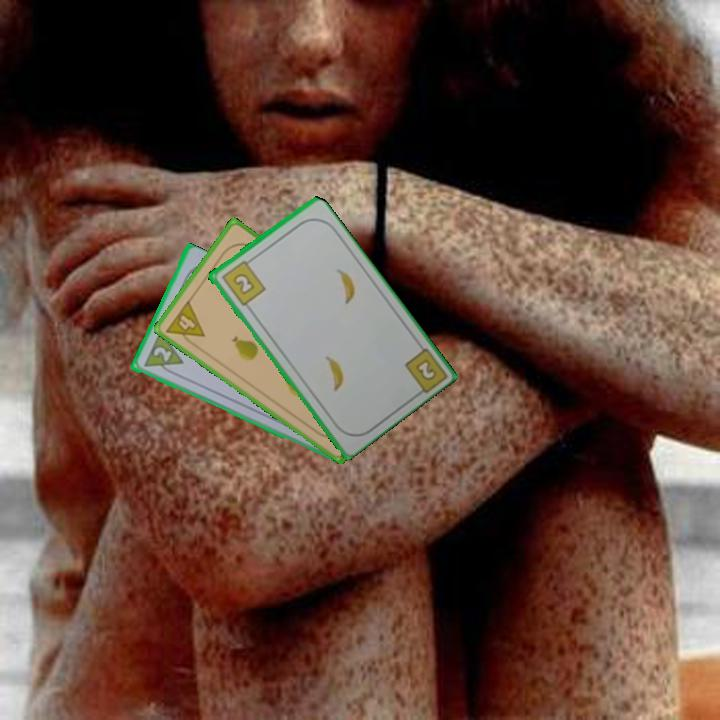2b: (218, 255, 268, 308), (412, 355, 439, 384)
2p: (149, 343, 174, 365)
4p: (162, 296, 208, 351)
